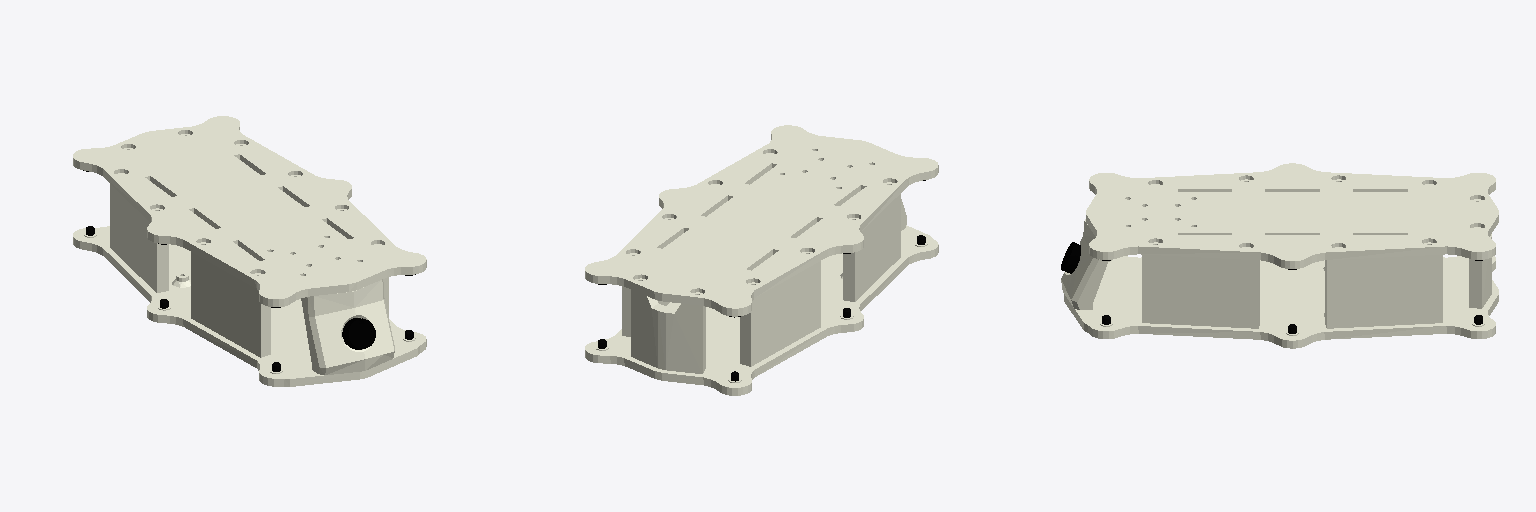
The model's file is body-small.obj.
The picture shows the model from 3 angles: view 1: azimuth 30°, elevation 25°; view 2: azimuth 150°, elevation 25°; view 3: azimuth 270°, elevation 25°; orthographic projection.
Visible parts, largest first — view 1: Solid1:3.001; view 2: Solid1:3.001; view 3: Solid1:3.001.
Part boxes in pixels (x1,y1,x2,y2): Solid1:3.001: (73, 116, 426, 386); Solid1:3.001: (585, 125, 938, 395); Solid1:3.001: (1061, 163, 1498, 348).
Bounding box in the file's own units: 106 × 44 × 200.